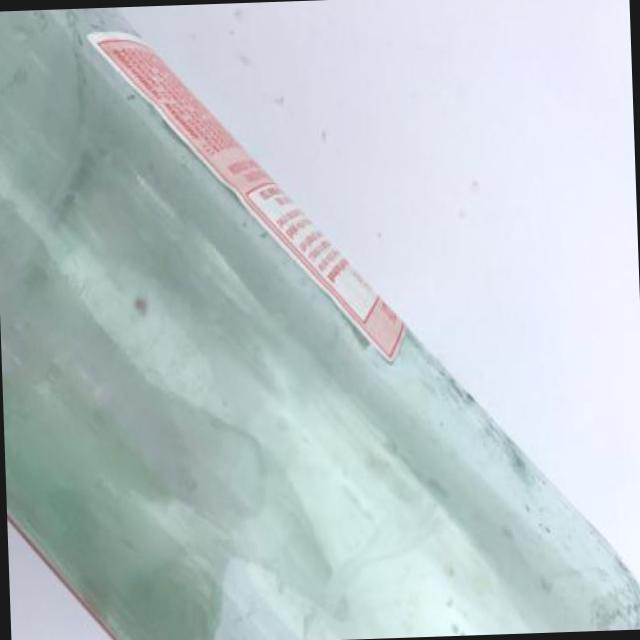chai_thuy_tinh: (0, 10, 640, 640)
